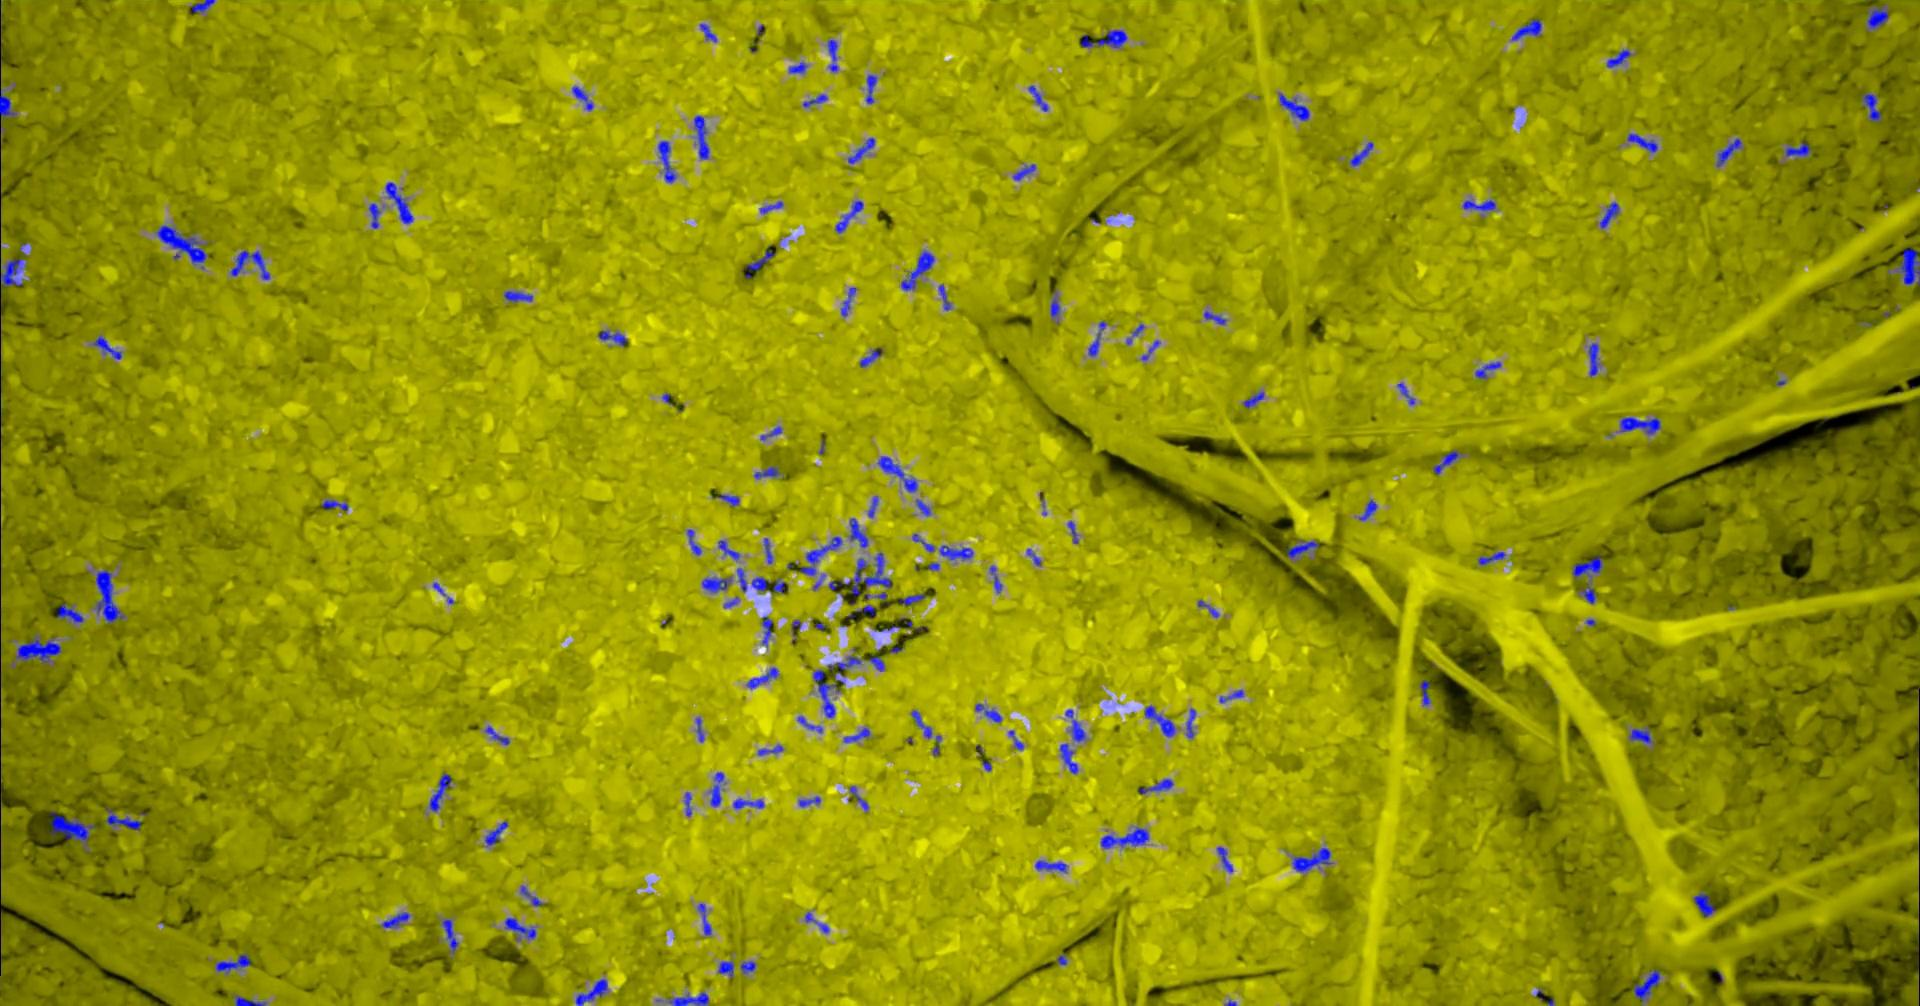ant: (828, 553, 891, 596), (155, 225, 204, 268), (799, 536, 841, 575), (95, 569, 123, 622), (877, 456, 917, 492), (50, 810, 94, 841), (900, 250, 935, 290), (17, 635, 61, 663), (383, 182, 411, 224), (230, 250, 269, 279), (811, 669, 836, 716), (0, 258, 25, 302), (1100, 827, 1148, 848), (745, 244, 775, 278), (1291, 847, 1331, 871), (1144, 705, 1175, 735), (836, 199, 863, 232), (1277, 91, 1309, 119), (1632, 969, 1658, 1001), (575, 978, 607, 1005), (1896, 248, 1919, 285), (1079, 29, 1126, 47), (104, 807, 140, 829), (657, 140, 676, 182), (429, 774, 451, 810), (215, 953, 251, 973), (1716, 137, 1741, 166), (1572, 553, 1603, 577), (745, 667, 778, 688), (91, 335, 121, 359), (847, 137, 874, 163), (1619, 417, 1660, 433), (827, 655, 860, 676), (1511, 18, 1542, 39), (693, 116, 709, 159), (0, 89, 17, 128), (1432, 450, 1459, 474), (504, 917, 535, 937), (1349, 141, 1373, 166), (1065, 709, 1084, 741), (1088, 320, 1105, 356), (750, 575, 783, 593), (1627, 133, 1657, 152), (484, 821, 507, 846), (910, 710, 931, 738), (1286, 540, 1318, 558), (441, 920, 458, 951), (1862, 91, 1881, 121), (1059, 743, 1077, 774), (1693, 893, 1716, 916), (850, 518, 867, 547), (668, 992, 709, 1005), (56, 603, 83, 622), (1138, 779, 1173, 793), (1867, 5, 1888, 28), (571, 86, 592, 111), (804, 912, 828, 932), (1029, 85, 1048, 111), (1599, 202, 1618, 227), (975, 702, 1001, 721), (597, 330, 627, 345), (858, 347, 881, 367), (938, 545, 971, 559), (381, 911, 409, 927), (850, 786, 869, 810), (1474, 361, 1500, 379), (484, 727, 509, 744), (710, 771, 723, 807), (701, 577, 730, 592), (697, 903, 711, 935), (1606, 50, 1630, 67), (717, 540, 739, 559), (521, 885, 542, 904), (841, 287, 855, 316), (686, 528, 701, 555), (912, 533, 935, 551), (1034, 860, 1065, 873), (797, 715, 822, 732), (1357, 499, 1377, 520), (843, 727, 869, 742), (1012, 164, 1035, 180), (1462, 199, 1495, 211), (1785, 141, 1810, 156), (1217, 847, 1232, 871), (1397, 384, 1415, 404), (1197, 600, 1218, 617), (1629, 727, 1651, 743), (1477, 551, 1505, 564), (761, 616, 772, 647), (733, 796, 763, 808), (989, 565, 1002, 592), (1219, 688, 1243, 702), (1243, 391, 1263, 408), (865, 74, 876, 103), (503, 290, 532, 301), (827, 39, 837, 71), (234, 995, 265, 1005), (759, 199, 782, 213), (1203, 310, 1225, 324), (698, 23, 716, 41), (1580, 583, 1595, 603), (803, 94, 827, 107), (715, 493, 739, 506), (1589, 342, 1597, 376), (759, 426, 781, 439), (938, 285, 950, 310), (321, 499, 347, 511), (899, 593, 924, 605), (190, 0, 215, 11), (368, 203, 380, 227), (754, 466, 778, 478), (1186, 708, 1195, 737), (855, 605, 875, 617), (757, 744, 782, 754), (867, 655, 884, 671), (1067, 520, 1077, 542), (797, 796, 820, 807), (717, 962, 733, 977), (763, 537, 772, 563), (1420, 680, 1429, 705), (867, 495, 877, 517), (737, 567, 745, 591), (695, 716, 703, 741), (916, 499, 930, 514), (740, 960, 756, 973), (789, 62, 806, 72), (1050, 297, 1059, 318), (684, 793, 691, 815)
